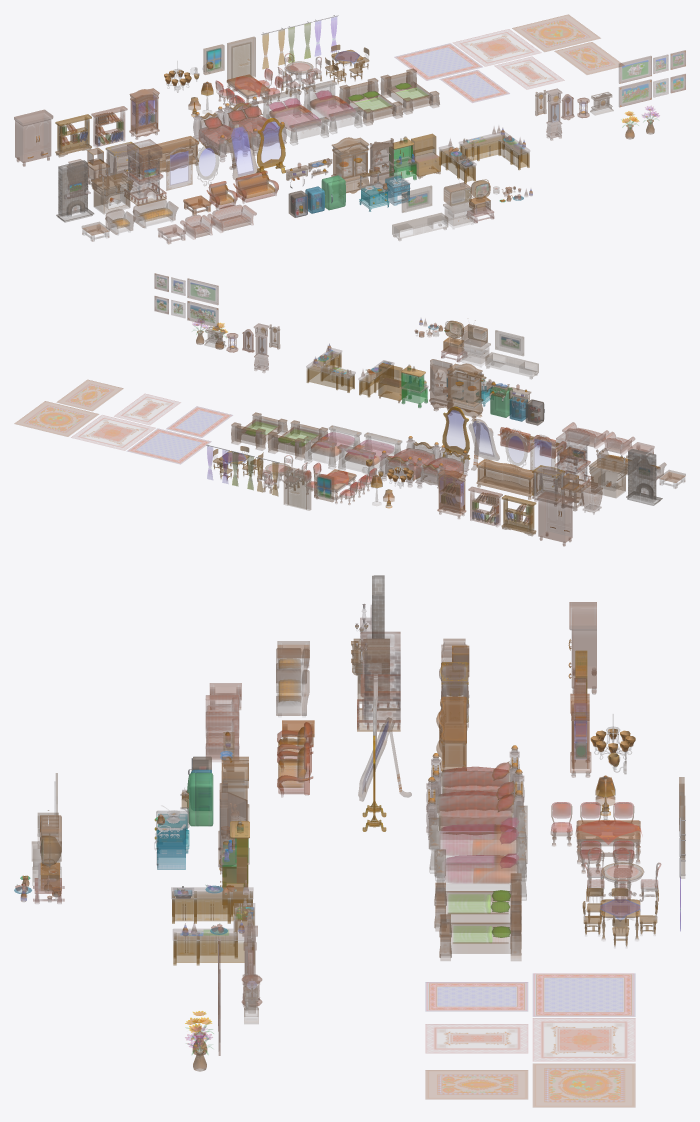
The model's file is Cartoon_Interior.glb.
3 renders of one model, top to bottom at view 1: azimuth 30°, elevation 25°; view 2: azimuth 150°, elevation 25°; view 3: azimuth 270°, elevation 25°, orthographic. The views are drawn at different scales.
Parts seen in each view (by area): view 1: Mirror2_13 - Default_0, FirePlace_03_13 - Default_0, Bed02_13 - Default_0, Carpet_03_13 - Default_0, Cabinet01_13 - Default_0, Carpet_01_13 - Default_0, FirePlace_01_13 - Default_0, Mirror1_13 - Default_0, Single_Bed_02_13 - Default_0, Kitchen_Cabinet_02_13 - Default_0, Bed03_13 - Default_0, Bed01_13 - Default_0 (+47 smaller); view 2: Mirror2_13 - Default_0, Kitchen_Cupborad_01_13 - Default_0, Carpet_03_13 - Default_0, Cabinet01_13 - Default_0, Carpet_01_13 - Default_0, FirePlace_03_13 - Default_0, Cabinet_05_13 - Default_0, FirePlace_01_13 - Default_0, Bed02_13 - Default_0, Bed01_13 - Default_0, Kitchen_Cabinet_02_13 - Default_0, Mirror1_13 - Default_0 (+36 smaller); view 3: Carpet_03_13 - Default_0, Carpet_01_13 - Default_0, Bed01_13 - Default_0, FirePlace_03_13 - Default_0, Single_Bed_02_13 - Default_0, Bed02_13 - Default_0, Kitchen_Table_01_13 - Default_0, Carpet_03a_13 - Default_0, Kitchen_Cabinet_02_13 - Default_0, Single_Bed_03_13 - Default_0, Bed03_13 - Default_0, Carpet_01a_13 - Default_0 (+29 smaller).
Boxes of the visible parts, bbox=[...] form: Mirror2_13 - Default_0: bbox=[227, 118, 285, 179]; FirePlace_03_13 - Default_0: bbox=[124, 139, 166, 205]; Bed02_13 - Default_0: bbox=[262, 89, 329, 144]; Carpet_03_13 - Default_0: bbox=[512, 14, 600, 51]; Cabinet01_13 - Default_0: bbox=[14, 109, 53, 166]; Carpet_01_13 - Default_0: bbox=[395, 43, 481, 80]; FirePlace_01_13 - Default_0: bbox=[56, 160, 94, 222]; Mirror1_13 - Default_0: bbox=[165, 141, 219, 190]; Single_Bed_02_13 - Default_0: bbox=[303, 80, 362, 133]; Kitchen_Cabinet_02_13 - Default_0: bbox=[459, 126, 529, 169]; Bed03_13 - Default_0: bbox=[339, 78, 402, 125]; Bed01_13 - Default_0: bbox=[223, 96, 286, 155]; Mirror2_13 - Default_0: bbox=[442, 406, 499, 470]; Kitchen_Cupborad_01_13 - Default_0: bbox=[446, 363, 483, 420]; Carpet_03_13 - Default_0: bbox=[14, 401, 98, 436]; Cabinet01_13 - Default_0: bbox=[537, 491, 574, 546]; Carpet_01_13 - Default_0: bbox=[128, 429, 210, 463]; FirePlace_03_13 - Default_0: bbox=[553, 429, 592, 492]; Cabinet_05_13 - Default_0: bbox=[476, 459, 537, 499]; FirePlace_01_13 - Default_0: bbox=[626, 449, 662, 505]; Bed02_13 - Default_0: bbox=[337, 432, 401, 475]; Bed01_13 - Default_0: bbox=[380, 436, 440, 486]; Kitchen_Cabinet_02_13 - Default_0: bbox=[306, 344, 355, 392]; Mirror1_13 - Default_0: bbox=[505, 429, 556, 470]; Carpet_03_13 - Default_0: bbox=[533, 1063, 635, 1107]; Carpet_01_13 - Default_0: bbox=[533, 973, 634, 1016]; Bed01_13 - Default_0: bbox=[426, 769, 524, 839]; FirePlace_03_13 - Default_0: bbox=[357, 631, 400, 731]; Single_Bed_02_13 - Default_0: bbox=[434, 837, 527, 900]; Bed02_13 - Default_0: bbox=[429, 805, 527, 873]; Kitchen_Table_01_13 - Default_0: bbox=[575, 802, 641, 873]; Carpet_03a_13 - Default_0: bbox=[425, 1070, 527, 1099]; Kitchen_Cabinet_02_13 - Default_0: bbox=[173, 899, 254, 965]; Single_Bed_03_13 - Default_0: bbox=[439, 905, 521, 960]; Bed03_13 - Default_0: bbox=[434, 873, 521, 930]; Carpet_01a_13 - Default_0: bbox=[425, 982, 527, 1010].
Bounding box in the file's own units: 1119 × 131 × 700.
Materials: 1 (1 with a texture image).
